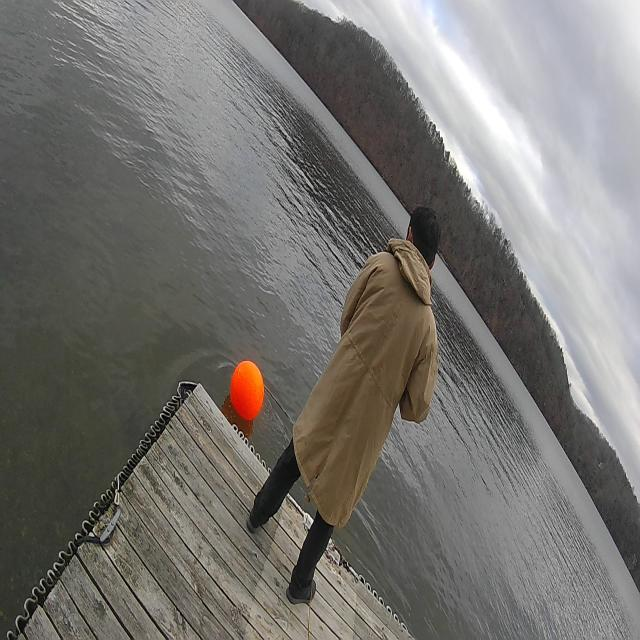Buoy: (227, 353, 267, 426)
